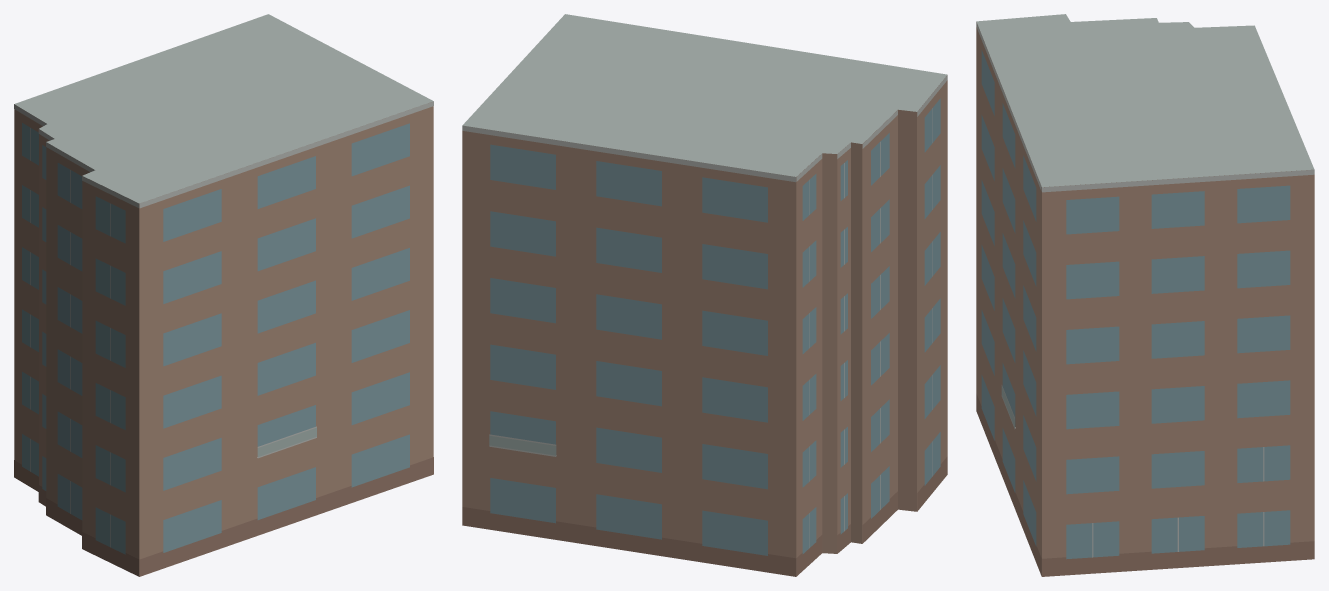
File: survey-upis-32707703.glb
3 views of the same model, side by side, from view 1: azimuth 30°, elevation 25°; view 2: azimuth 150°, elevation 25°; view 3: azimuth 270°, elevation 25° (orthographic). The views are drawn at different scales.
Visible parts, largest first — view 1: survey-upis-32707703.tmp; view 2: survey-upis-32707703.tmp; view 3: survey-upis-32707703.tmp.
Part boxes in pixels (<box>): survey-upis-32707703.tmp: <box>14,14,433,576</box>; survey-upis-32707703.tmp: <box>462,14,947,576</box>; survey-upis-32707703.tmp: <box>976,14,1314,576</box>.
Bounding box in the file's own units: 17.65 × 18.5 × 14.56.
